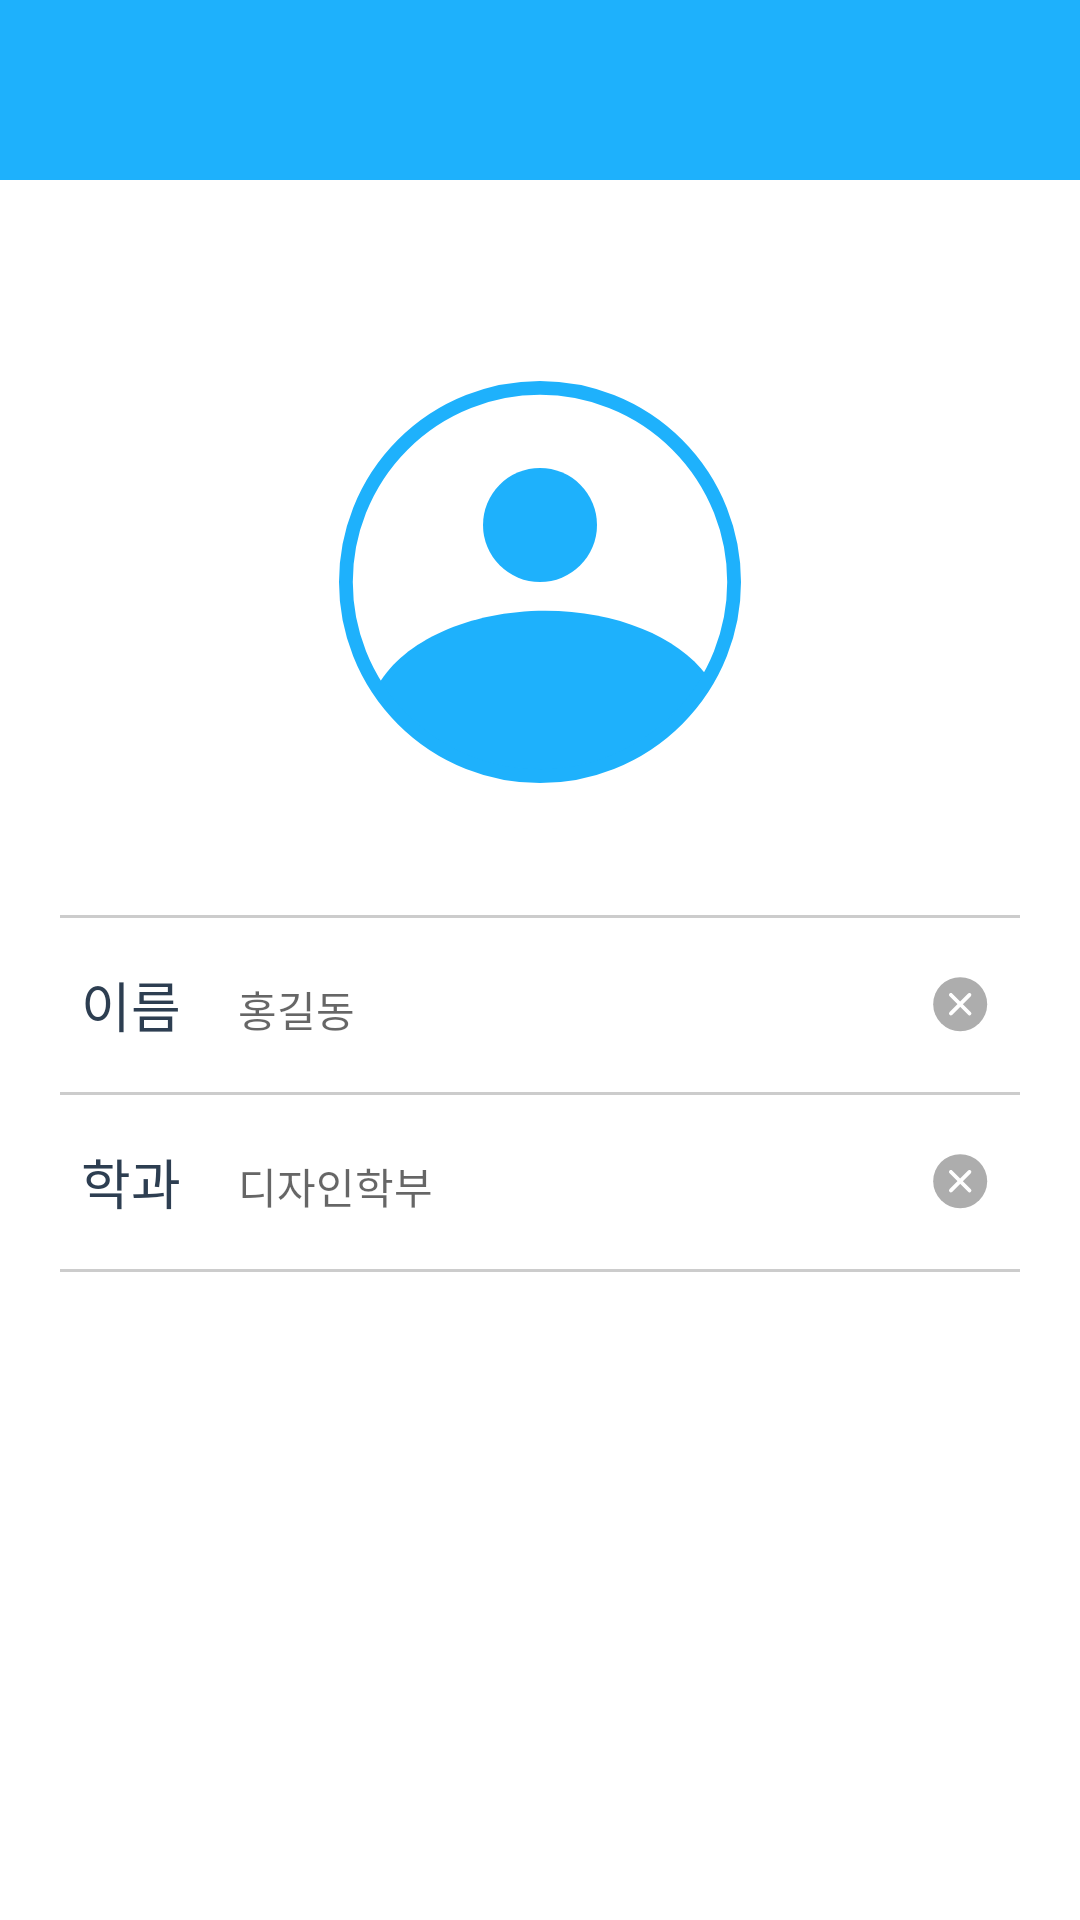

Icons on this 1080 × 1920 Android screen, each with the point to tap as (x,y):
erase: (960,1004), (960,1181)
